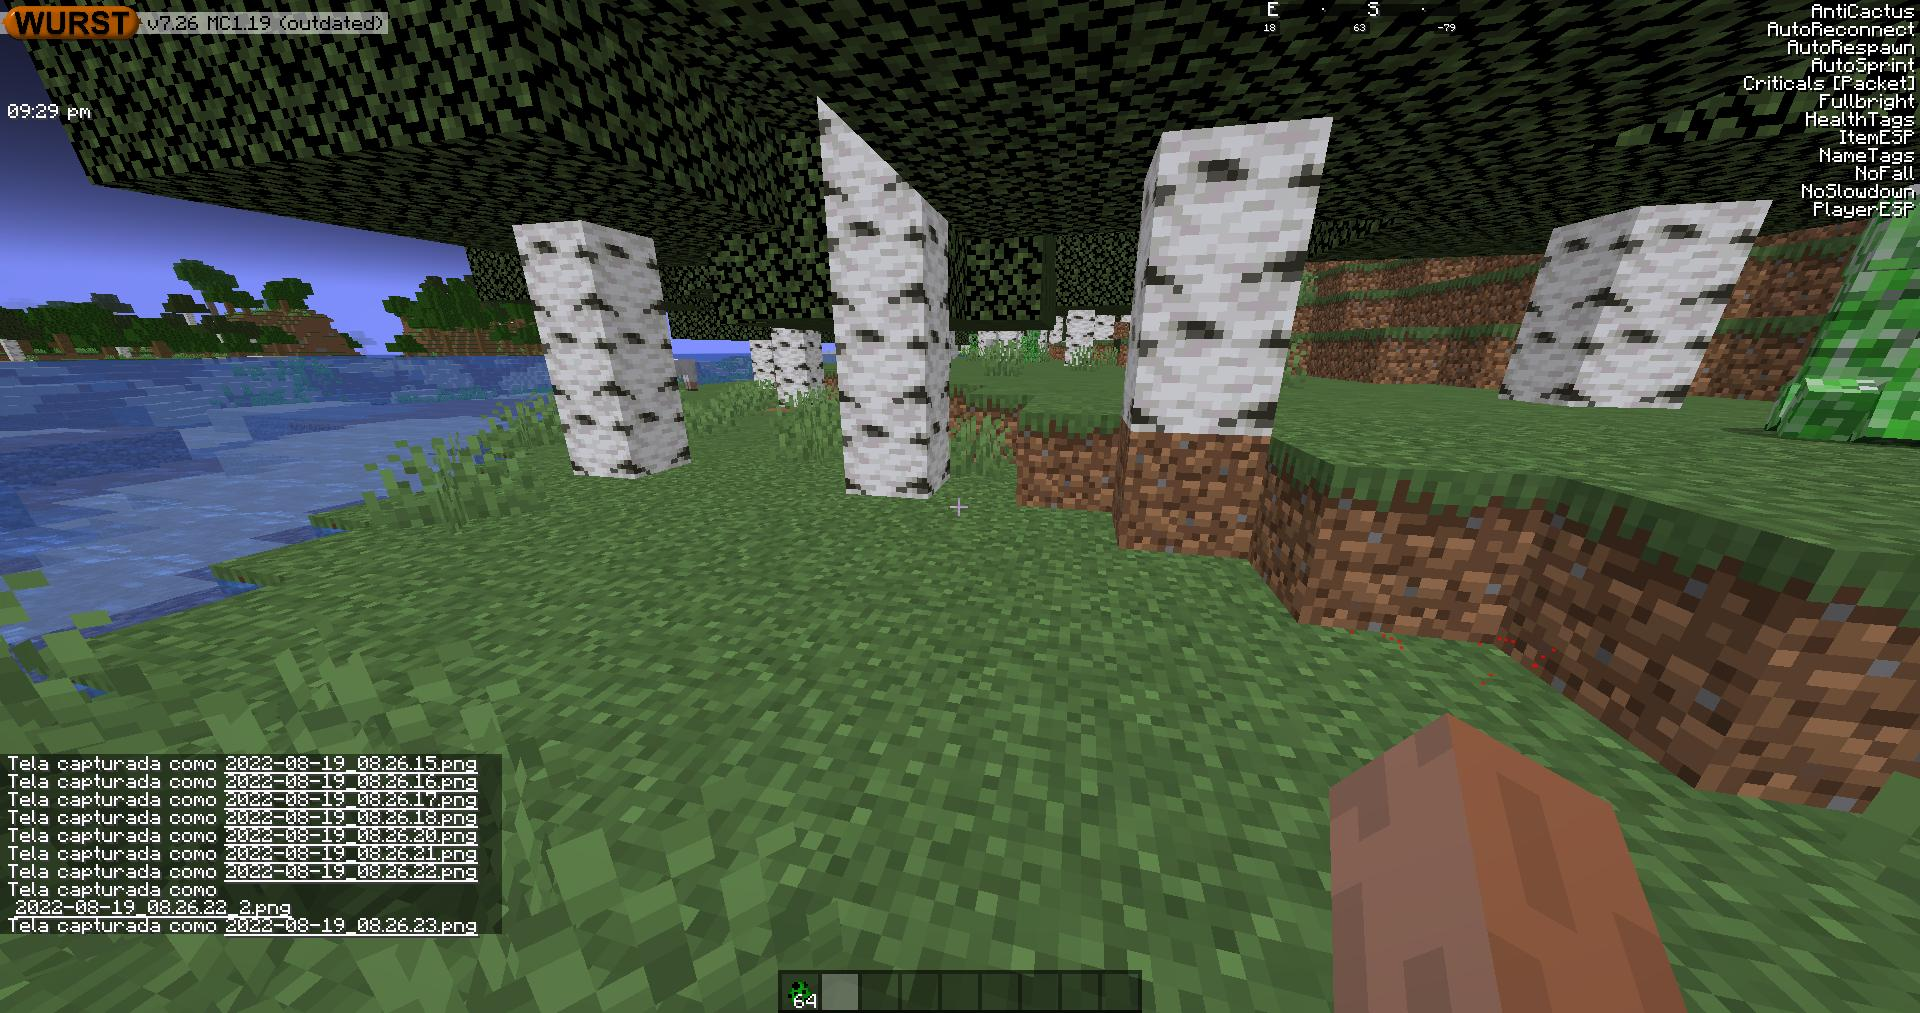creeper: (1823, 206, 1917, 443)
